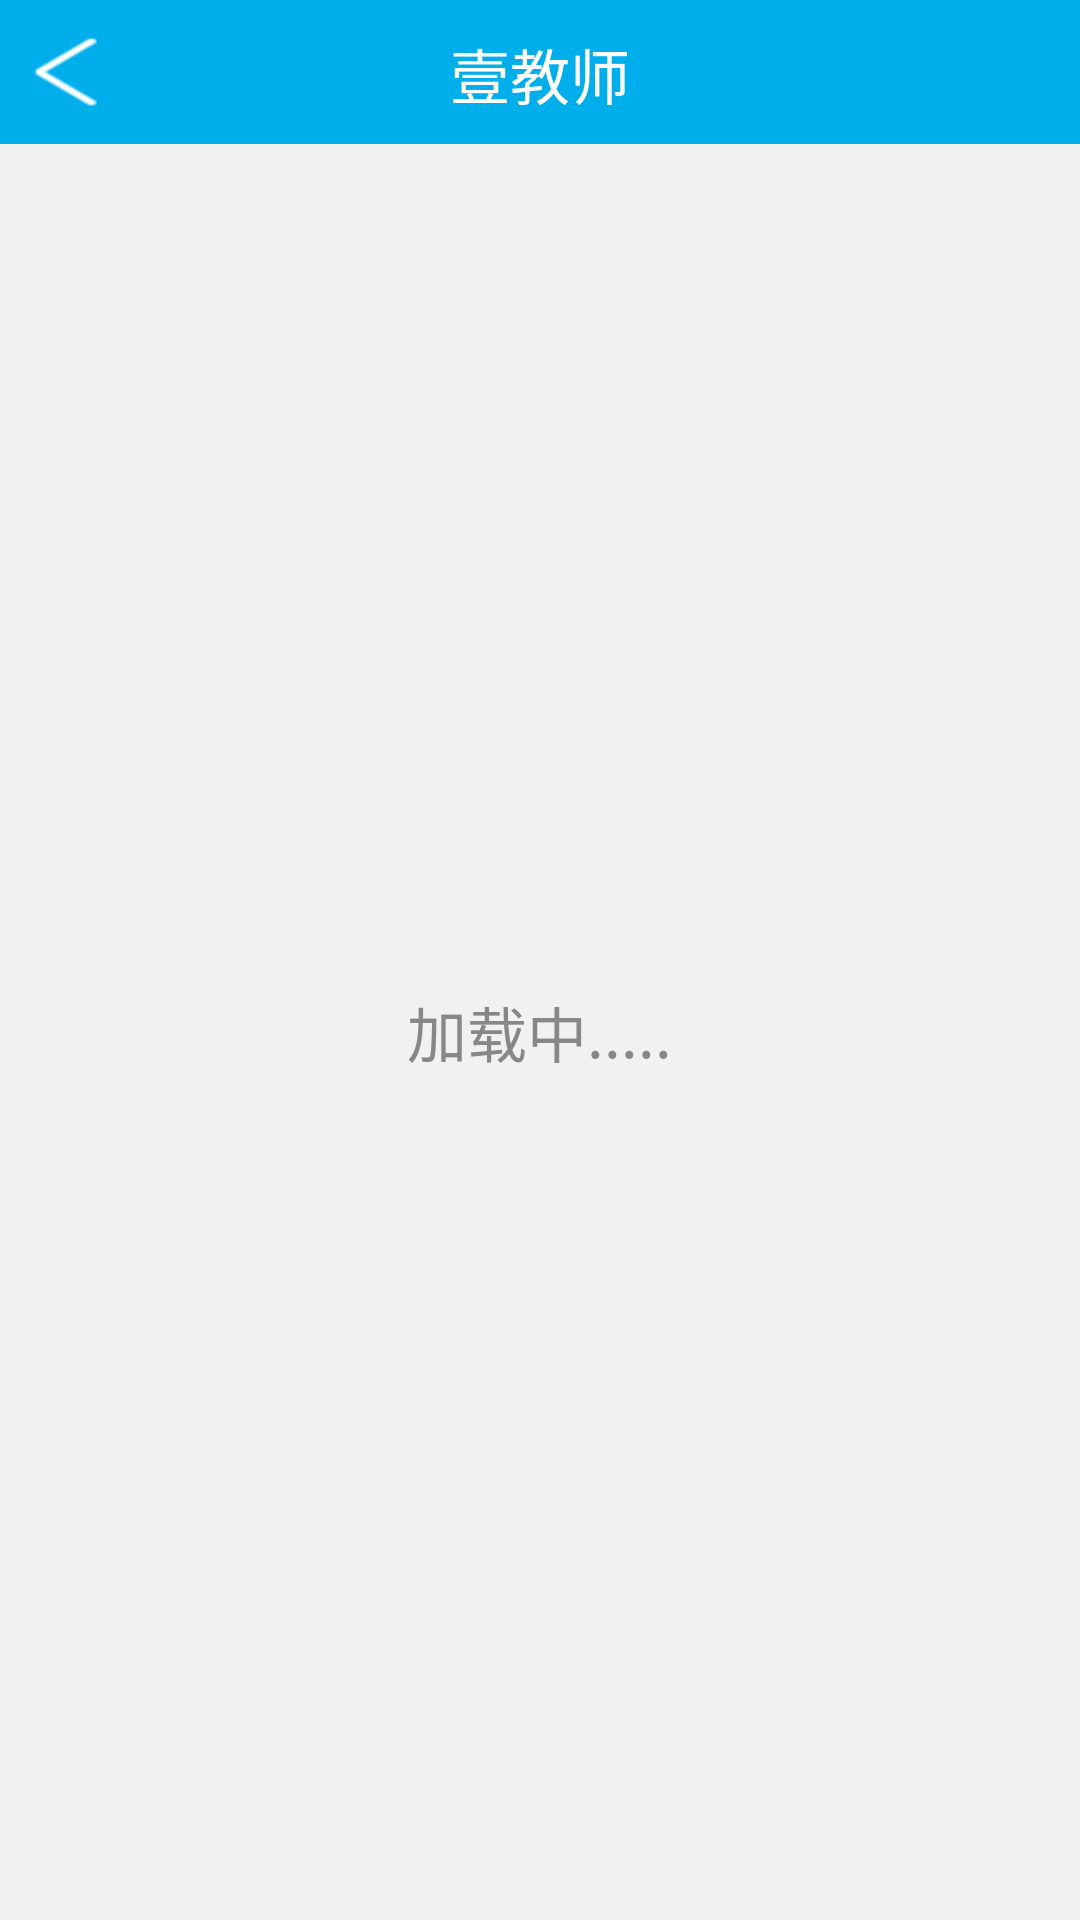

Named icons in this screenshot (1080x1920) and their centers, [x,y]:
back: [66,72]
